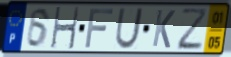6: (25, 7, 52, 49)
F: (84, 8, 115, 50)
H: (50, 6, 81, 51)
K: (151, 8, 177, 50)
U: (114, 7, 145, 51)
Z: (177, 7, 209, 52)
